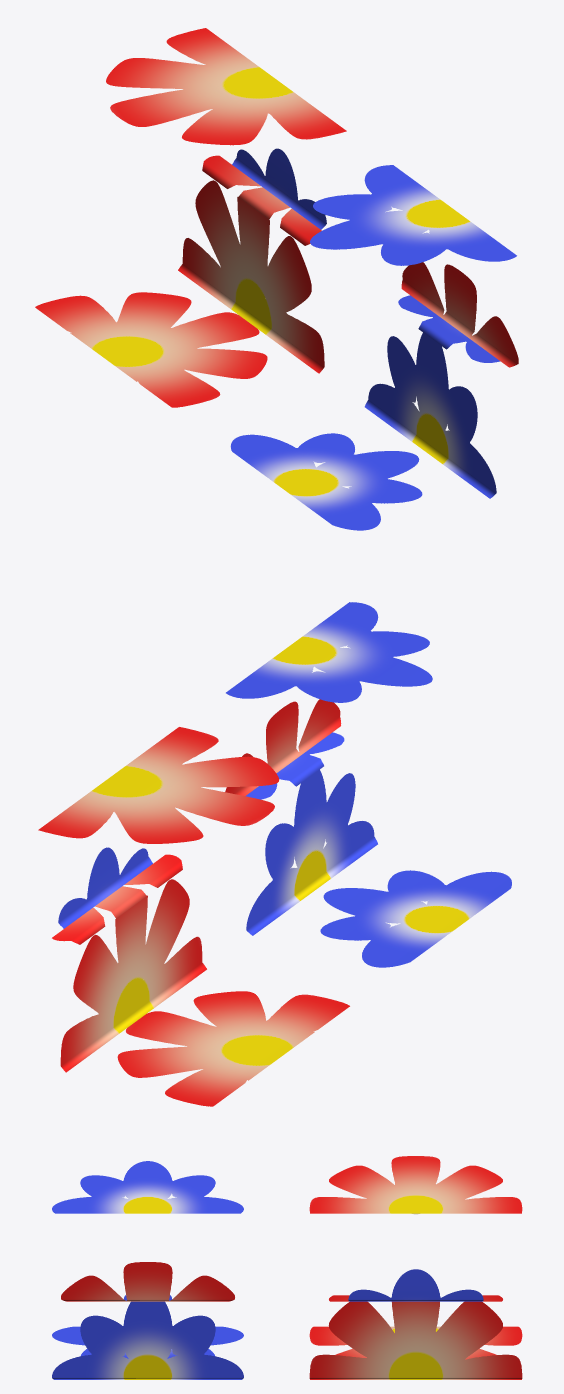
Rendered from SM_SS01_Cornice.fbx.
3 views of the same model, one above another, from view 1: azimuth 30°, elevation 25°; view 2: azimuth 150°, elevation 25°; view 3: azimuth 270°, elevation 25° (orthographic). The views are drawn at different scales.
Parts seen in each view (by area): view 1: SM_SS01_Cornice; view 2: SM_SS01_Cornice; view 3: SM_SS01_Cornice.
Boxes of the visible parts, x1,y1,x2,y2 form: SM_SS01_Cornice: [35, 28, 518, 530]; SM_SS01_Cornice: [38, 602, 511, 1106]; SM_SS01_Cornice: [52, 1156, 522, 1379].
Size of the model in its own units: 158 by 200 by 550.
